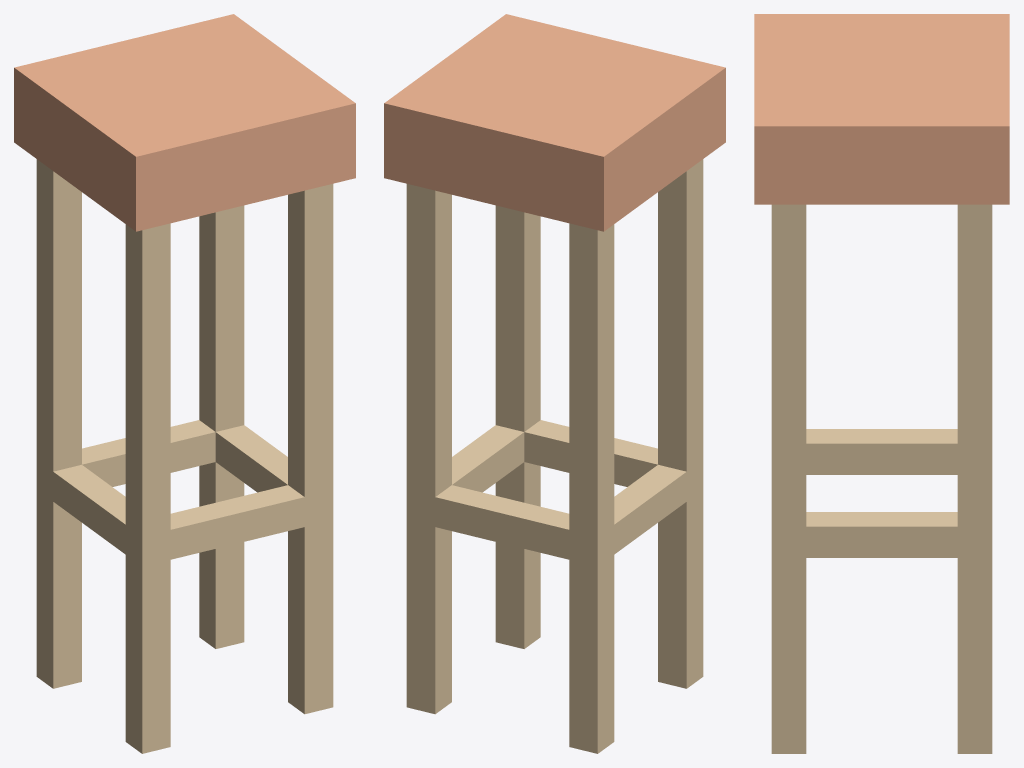
The model's file is stoolBarSquare.glb.
3 views of the same model, side by side, from view 1: azimuth 30°, elevation 25°; view 2: azimuth 150°, elevation 25°; view 3: azimuth 270°, elevation 25° (orthographic). The views are drawn at different scales.
Parts seen in each view (by area): view 1: stoolBarSquare; view 2: stoolBarSquare; view 3: stoolBarSquare.
Boxes of the visible parts, left/top/right/bottom form: stoolBarSquare: left=14, top=14, right=355, bottom=753; stoolBarSquare: left=384, top=14, right=725, bottom=753; stoolBarSquare: left=754, top=14, right=1009, bottom=753.
Bounding box in the file's own units: 1.54 × 4.05 × 1.48.
